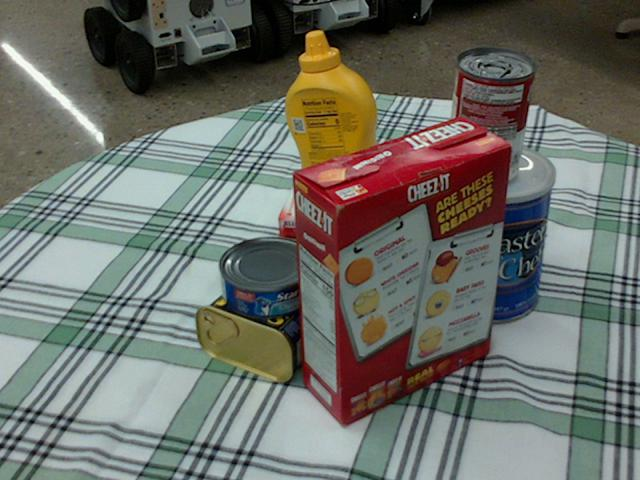cracker_box: (292, 117, 511, 425)
gelatin_box: (277, 179, 357, 244)
master_chef_can: (433, 142, 555, 323)
mug: (300, 212, 413, 330)
mustard_bottle: (284, 32, 392, 220)
potted_meat_can: (197, 266, 339, 381)
sugar_box: (348, 161, 492, 283)
tomato_soup_can: (445, 48, 533, 185)
tuna_fish_can: (219, 236, 316, 319)
